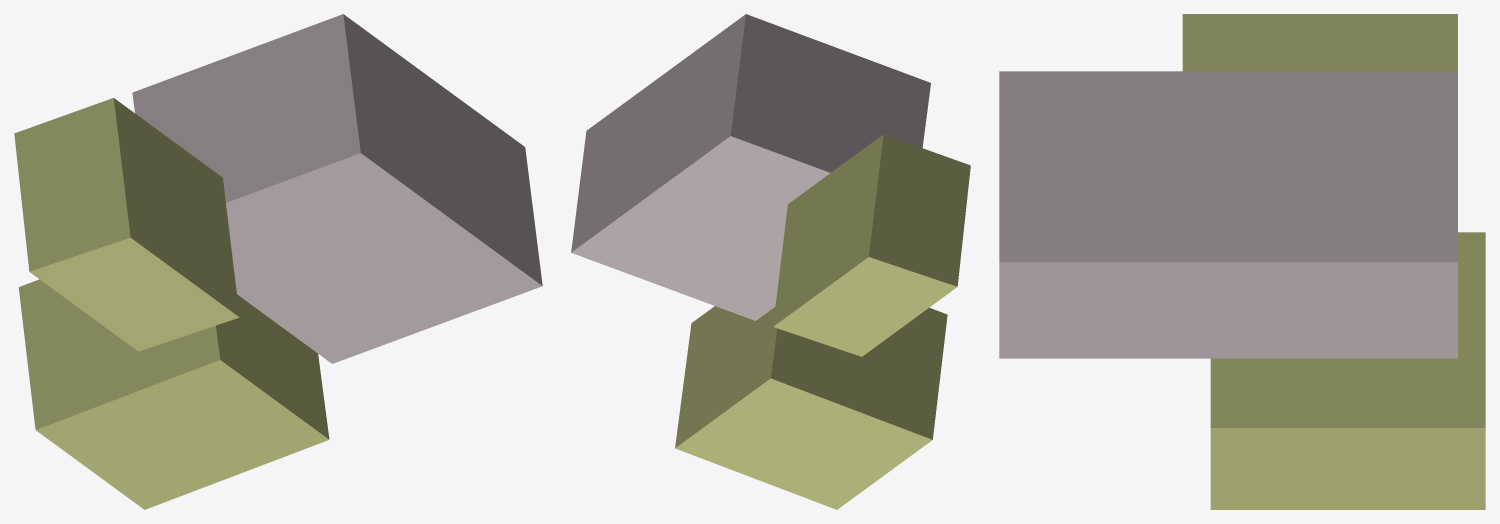
3 renders of one model, left to right at view 1: azimuth 30°, elevation 25°; view 2: azimuth 150°, elevation 25°; view 3: azimuth 270°, elevation 25°, orthographic. The views are drawn at different scales.
Visible parts, largest first — view 1: 0_1_2_3_3_3_3_0_3_3; view 2: 0_1_2_3_3_3_3_0_3_3; view 3: 0_1_2_3_3_3_3_0_3_3.
Part boxes in pixels (box(x1,y1,x2,y2)): 0_1_2_3_3_3_3_0_3_3: box(14, 14, 542, 509); 0_1_2_3_3_3_3_0_3_3: box(571, 14, 970, 509); 0_1_2_3_3_3_3_0_3_3: box(999, 14, 1485, 509).
Size of the model in its own units: 16.5 by 16.01 by 15.91.
